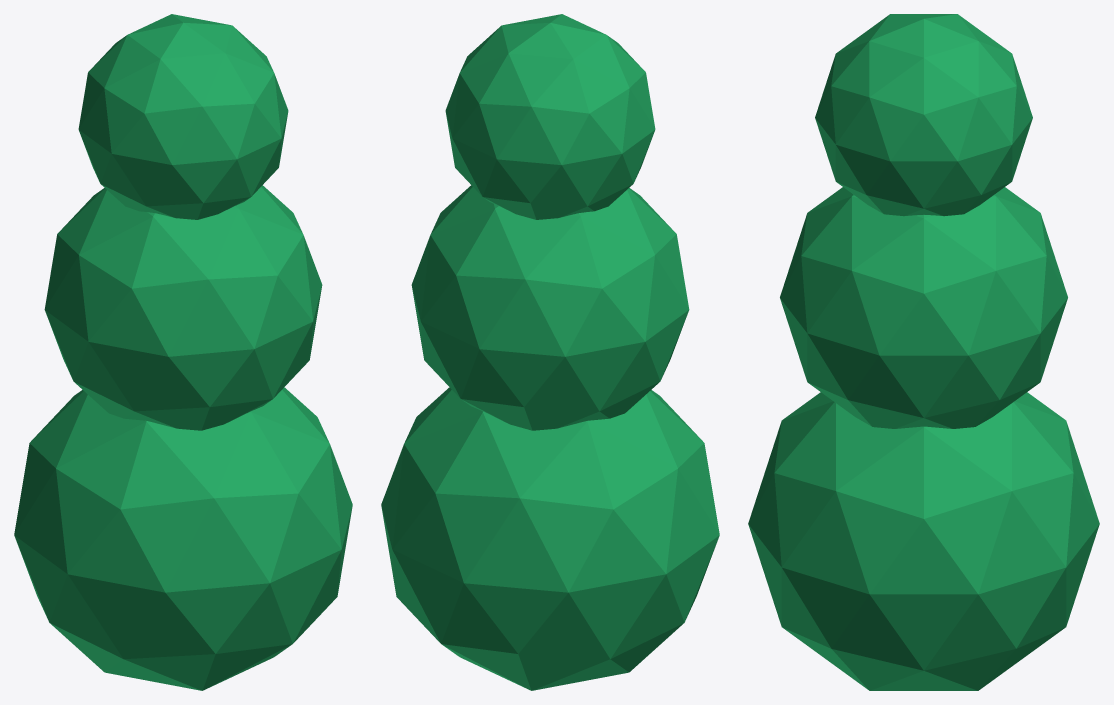
The model's file is watermelon_tower.glb.
3 views of the same model, side by side, from view 1: azimuth 30°, elevation 25°; view 2: azimuth 150°, elevation 25°; view 3: azimuth 270°, elevation 25° (orthographic).
Visible parts, largest first — view 1: watermelon_tower; view 2: watermelon_tower; view 3: watermelon_tower.
Part boxes in pixels (bbox=[...]): watermelon_tower: bbox=[14, 14, 352, 690]; watermelon_tower: bbox=[381, 14, 719, 690]; watermelon_tower: bbox=[748, 14, 1099, 690].
Bounding box in the file's own units: 1.18 × 2.58 × 1.24.
